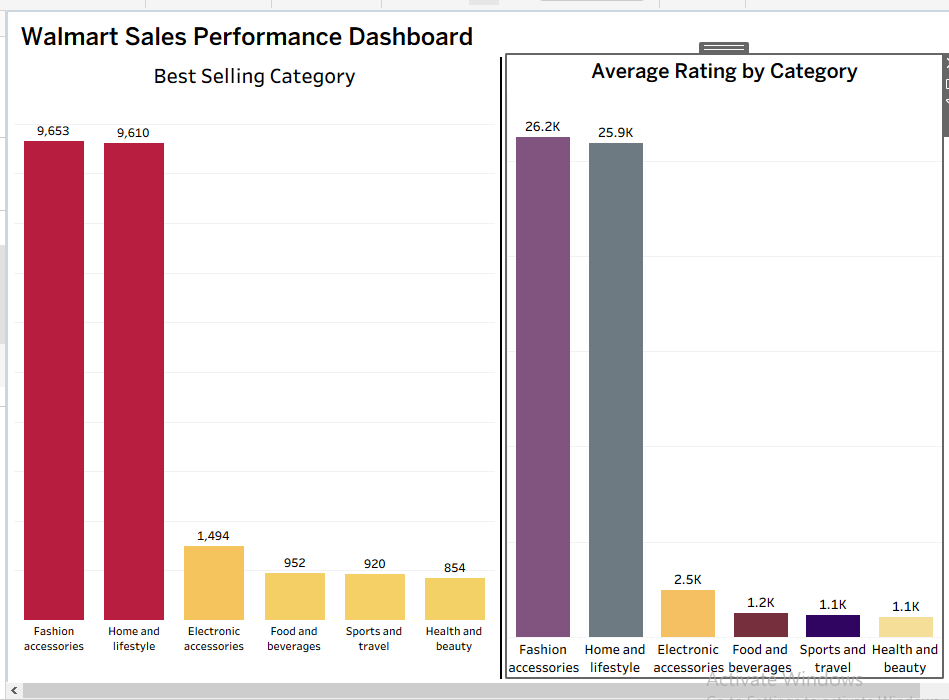

The dashboard page shown, as its layout file describes it:
{"tool":"tableau","page":{"name":"Dashboard 3","canvas":[1000,800],"ordinal":2},"visuals":[{"type":"title","box":[8,8,984,37]},{"type":"worksheet","title":"Average Rating by Category","mark":"Bar","rows":["rating"],"cols":["category"],"box":[501,45,435,622]},{"type":"worksheet","title":"Best Selling Category","mark":"Automatic","rows":["quantity"],"cols":["category"],"box":[8,47,481,603]},{"type":"blank","box":[494,47,2,622]}]}

Visuals, with their boxes on the page's 1000x800 design canvas (x1, y1, x2, y2). These are canvas units, not pixel positions in the 949x700 screenshot, which may show the page scaled, cropped or inside an application window:
title: 8/8/992/45
"Average Rating by Category" worksheet (Bar marks): 501/45/936/667
"Best Selling Category" worksheet: 8/47/489/650
blank: 494/47/496/669
